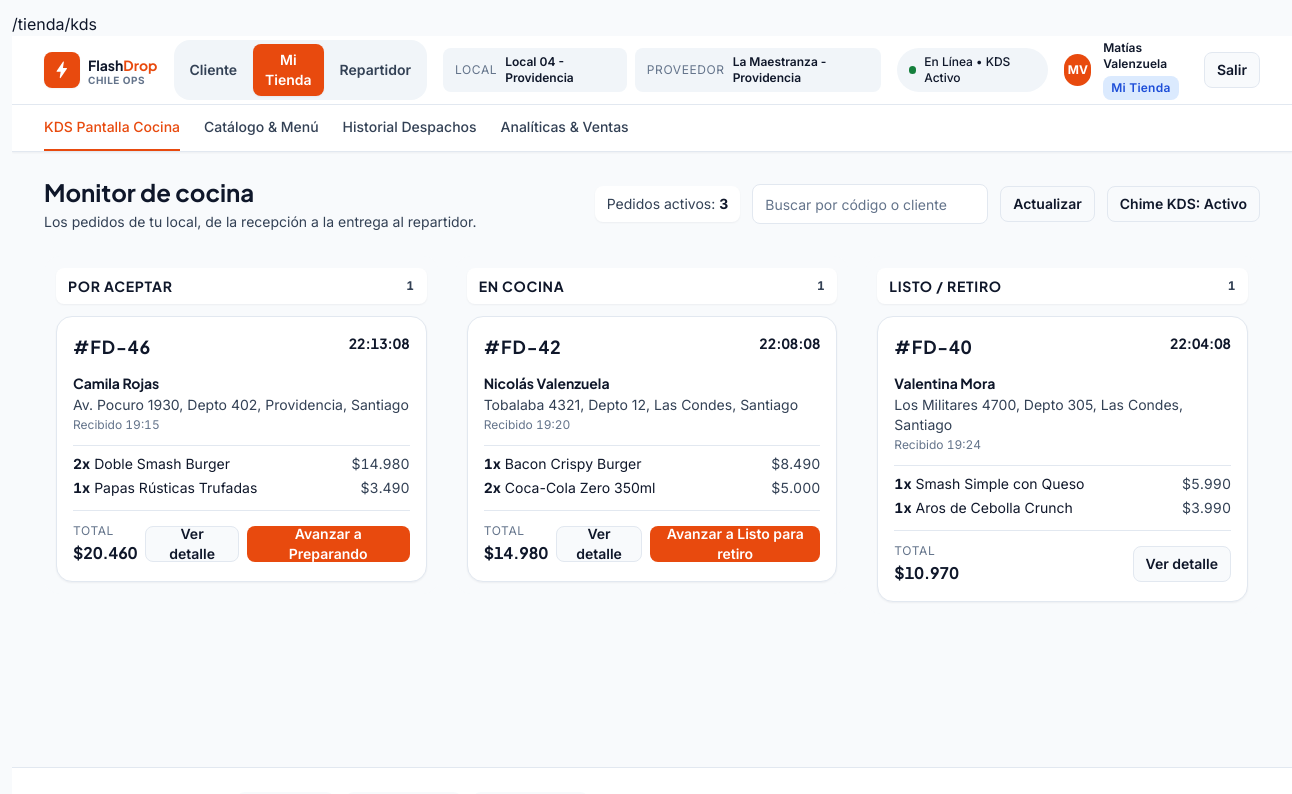
kitchen display board › keeps the card in the column of the status the backend answers with
The width and height of the screenshot is (1292, 794).
Click the button "Avanzar a Preparando": (328, 544) [247,526,410,562]
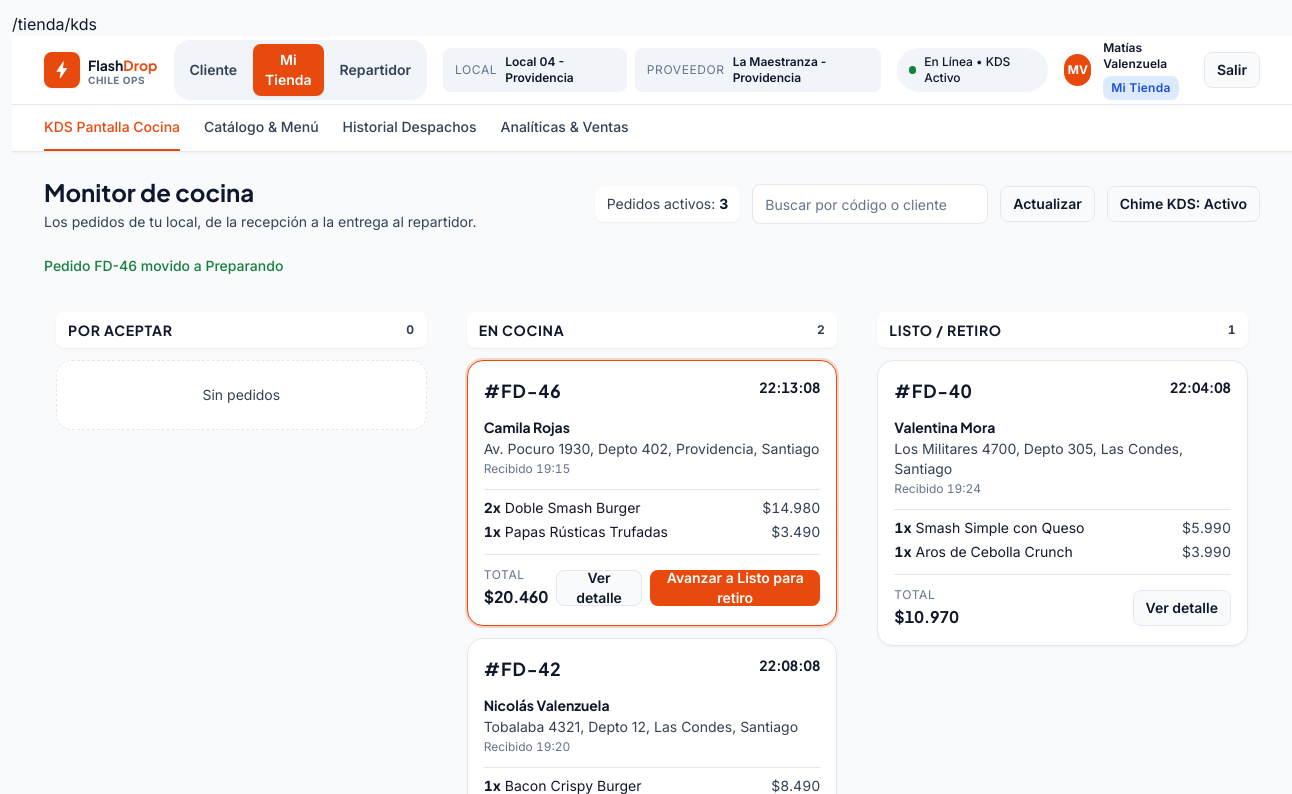
Expected: the text "#FD-46" is shown, [484,377,562,405]
Result: the button "Avanzar a Listo para retiro" is shown at [650,570,820,606]
